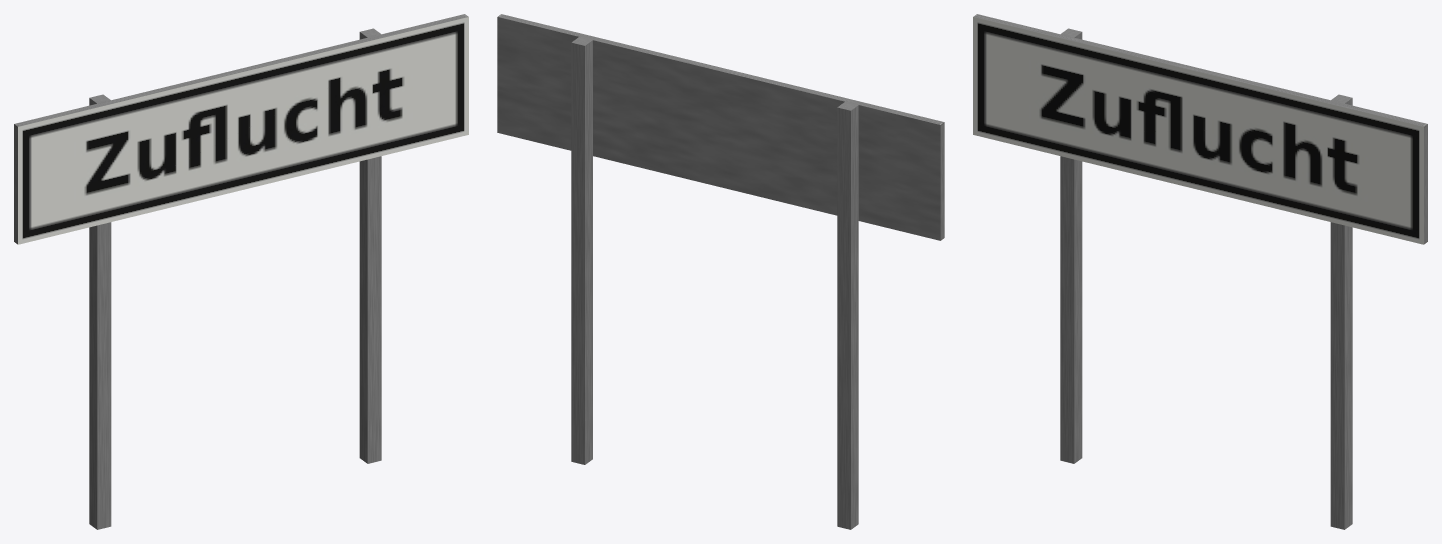
File: SM_sign_place_08.fbx
The picture shows the model from 3 angles, left to right: view 1: azimuth 30°, elevation 25°; view 2: azimuth 150°, elevation 25°; view 3: azimuth 330°, elevation 25°; orthographic projection.
Parts seen in each view (by area): view 1: SM_sign_place_08; view 2: SM_sign_place_08; view 3: SM_sign_place_08.
Part boxes in pixels (box(x1,y1,x2,y2)): SM_sign_place_08: box(14, 14, 468, 529); SM_sign_place_08: box(497, 14, 944, 529); SM_sign_place_08: box(973, 14, 1427, 529).
Bounding box in the file's own units: 2.6 × 2.35 × 0.12.
